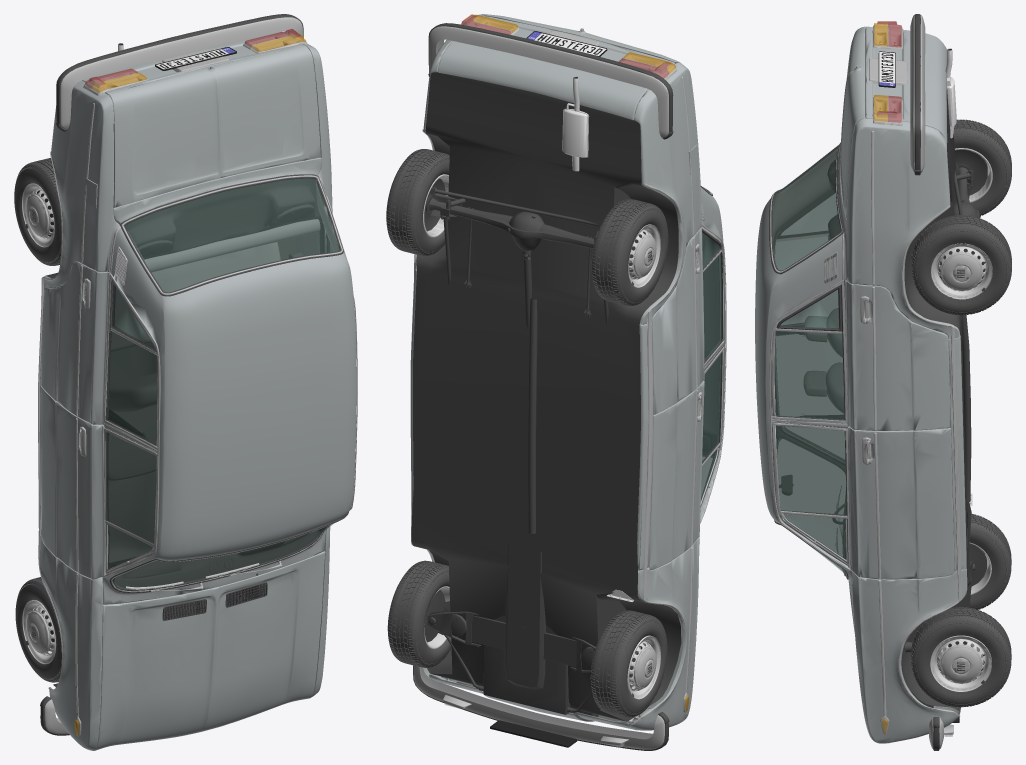
Rendered from fiat_128.glb.
3 views of the same model, side by side, from view 1: azimuth 30°, elevation 25°; view 2: azimuth 150°, elevation 25°; view 3: azimuth 270°, elevation 25° (orthographic). The views are drawn at different scales.
Parts seen in each view (by area): view 1: Object_21, Object_12, Object_44, Object_6, Object_66, Object_25, Object_50, Object_11, Object_24, Object_46, Object_3, Object_5; view 2: Object_12, Object_21, Object_50, Object_25, Object_66, Object_44, Object_46, Object_45, Object_24, Object_7, Object_3, Object_5; view 3: Object_21, Object_66, Object_50, Object_25, Object_12, Object_6, Object_44, Object_46, Object_24, Object_11, Object_5, Object_3 (+2 smaller).
Boxes of the visible parts, x1,y1,x2,y2 form: Object_21: (38, 31, 356, 750); Object_12: (25, 14, 332, 735); Object_44: (92, 179, 339, 579); Object_6: (125, 178, 339, 292); Object_66: (107, 239, 333, 589); Object_25: (26, 17, 357, 734); Object_50: (14, 158, 61, 682); Object_11: (109, 174, 348, 592); Object_24: (75, 66, 342, 736); Object_46: (22, 183, 56, 664); Object_3: (91, 32, 306, 92); Object_5: (85, 29, 301, 88); Object_12: (411, 23, 723, 750); Object_21: (410, 14, 725, 730); Object_50: (386, 149, 668, 717); Object_25: (411, 17, 726, 749); Object_66: (701, 232, 721, 500); Object_44: (637, 234, 719, 595); Object_46: (423, 174, 660, 699); Object_45: (562, 76, 700, 602); Object_24: (580, 28, 711, 718); Object_7: (490, 31, 607, 747); Object_3: (466, 14, 675, 73); Object_5: (461, 14, 670, 78); Object_21: (755, 26, 967, 743); Object_66: (774, 193, 847, 574); Object_50: (911, 119, 1011, 707); Object_25: (769, 15, 982, 748); Object_12: (771, 14, 987, 750); Object_6: (773, 147, 841, 270); Object_44: (771, 149, 954, 579); Object_46: (930, 148, 992, 691); Object_24: (770, 65, 889, 734); Object_11: (769, 29, 865, 579); Object_5: (878, 21, 901, 122); Object_3: (874, 21, 887, 121).
Bounding box in the file's own units: 168 × 428 × 154.
